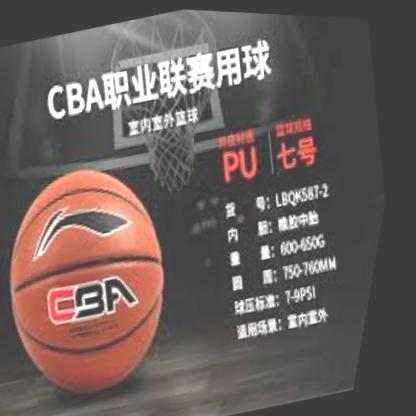basketball: (0, 147, 214, 410)
